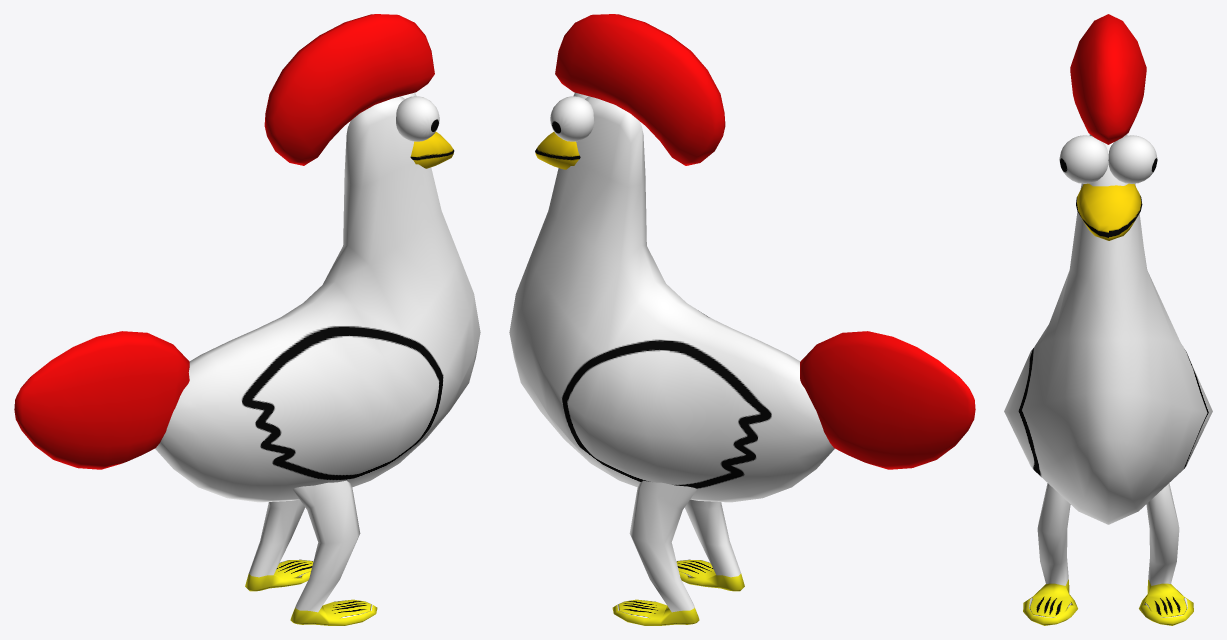
The model's file is ChickenAnim2.FBX.
3 renders of one model, left to right at view 1: azimuth 30°, elevation 25°; view 2: azimuth 150°, elevation 25°; view 3: azimuth 270°, elevation 25°, orthographic. The views are drawn at different scales.
Visible parts, largest first — view 1: Chicken, RightLeg, LeftLeg; view 2: Chicken, LeftLeg, RightLeg; view 3: Chicken, LeftLeg, RightLeg.
Boxes of the visible parts, <box> form: Chicken: <box>14,14,480,502</box>; RightLeg: <box>290,480,377,625</box>; LeftLeg: <box>245,499,313,591</box>; Chicken: <box>509,14,975,502</box>; LeftLeg: <box>612,480,699,625</box>; RightLeg: <box>676,499,744,591</box>; Chicken: <box>1004,14,1212,524</box>; LeftLeg: <box>1139,483,1193,625</box>; RightLeg: <box>1023,483,1077,625</box>.
Bounding box in the file's own units: 728 × 266 × 861.
2 materials, 2 textured.
